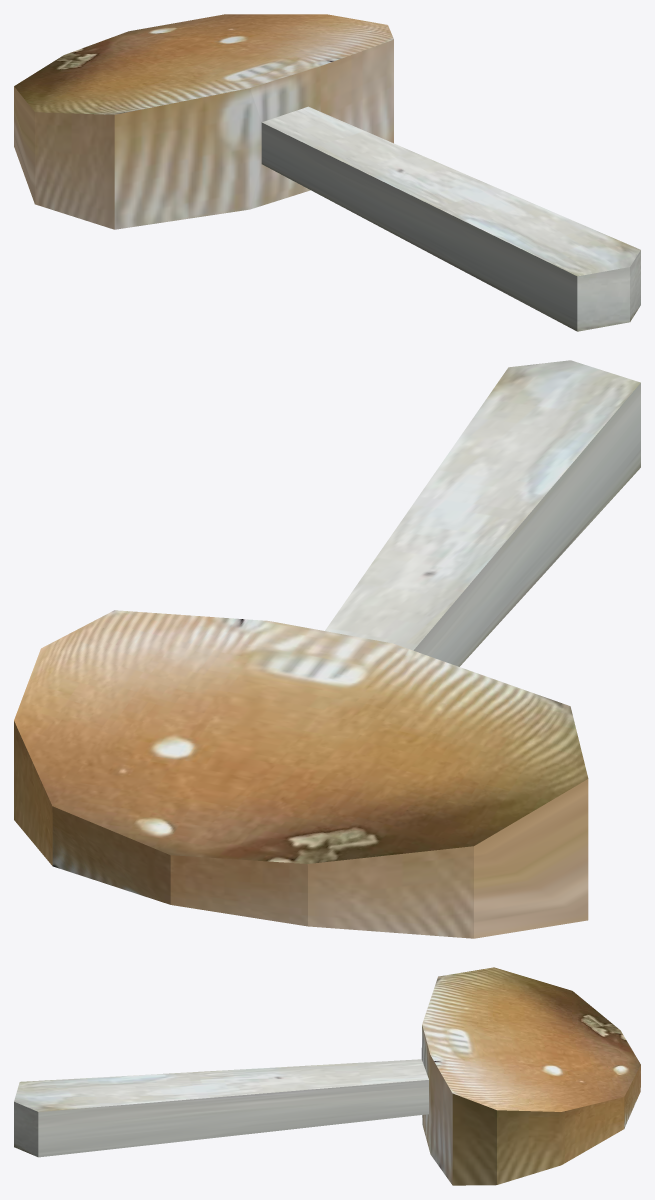
File: mushroom.fbx
3 renders of one model, top to bottom at view 1: azimuth 30°, elevation 25°; view 2: azimuth 150°, elevation 25°; view 3: azimuth 270°, elevation 25°, orthographic. The views are drawn at different scales.
Visible parts, largest first — view 1: mushroom; view 2: mushroom; view 3: mushroom.
Part boxes in pixels (box(x1,y1,x2,y2)): mushroom: box(14, 14, 640, 331); mushroom: box(14, 360, 640, 938); mushroom: box(14, 967, 640, 1185).
Bounding box in the file's own units: 32.73 × 10.71 × 60.89.
